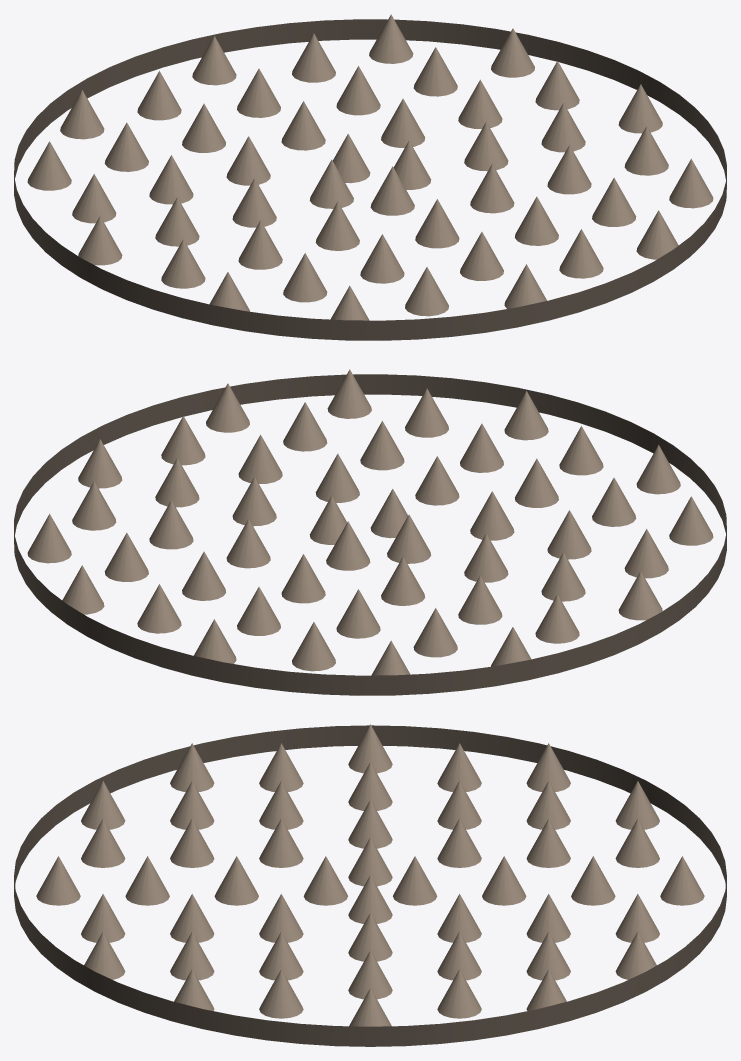
The model's file is snares_of_hatred_r4.obj.
3 renders of one model, top to bottom at view 1: azimuth 30°, elevation 25°; view 2: azimuth 150°, elevation 25°; view 3: azimuth 270°, elevation 25°, orthographic.
Parts seen in each view (by area): view 1: spikes_r4; view 2: spikes_r4; view 3: spikes_r4.
Part boxes in pixels (<box>): spikes_r4: <box>14,14,726,340</box>; spikes_r4: <box>14,369,726,695</box>; spikes_r4: <box>14,724,726,1046</box>.
Size of the model in its own units: 8 by 0.5 by 8.
